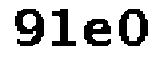0: (120, 7, 152, 51)
1: (49, 8, 77, 50)
9: (10, 7, 45, 50)
e: (83, 16, 115, 50)
